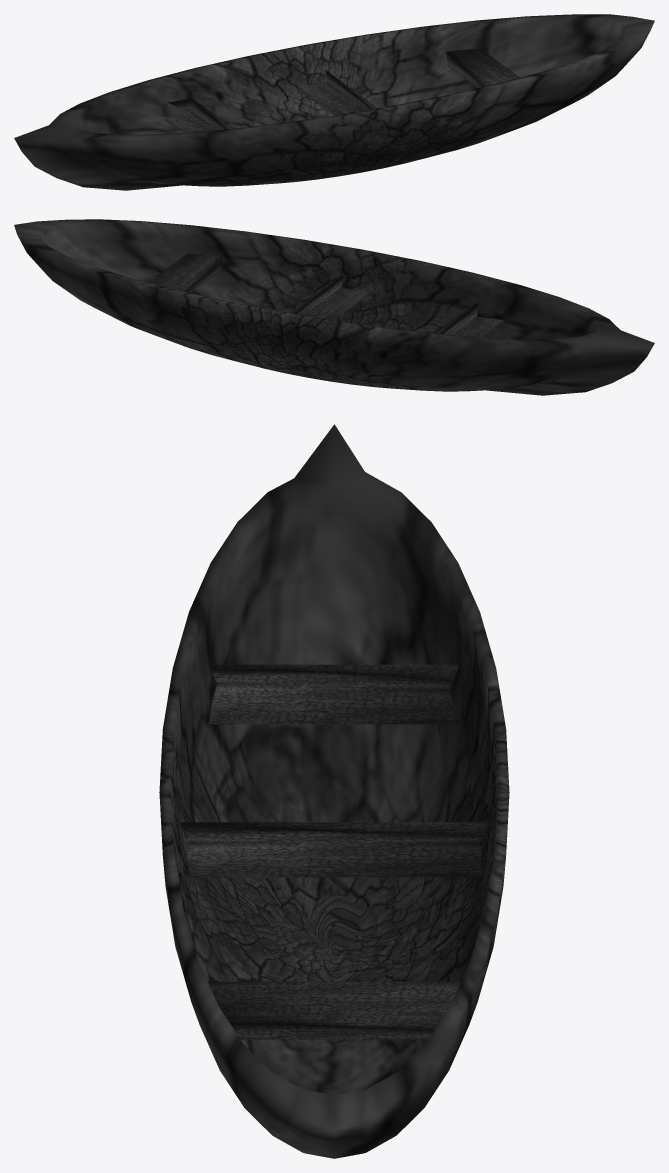
File: Cannoe.obj
3 views of the same model, one above another, from view 1: azimuth 30°, elevation 25°; view 2: azimuth 150°, elevation 25°; view 3: azimuth 270°, elevation 25° (orthographic). The views are drawn at different scales.
Visible parts, largest first — view 1: Sphere; view 2: Sphere; view 3: Sphere.
Boxes of the visible parts, x1=… form: Sphere: x1=14, y1=14, x2=654, y2=190; Sphere: x1=14, y1=219, x2=654, y2=395; Sphere: x1=159, y1=424, x2=509, y2=1158.
Bounding box in the file's own units: 10.23 × 1.7 × 2.42.
